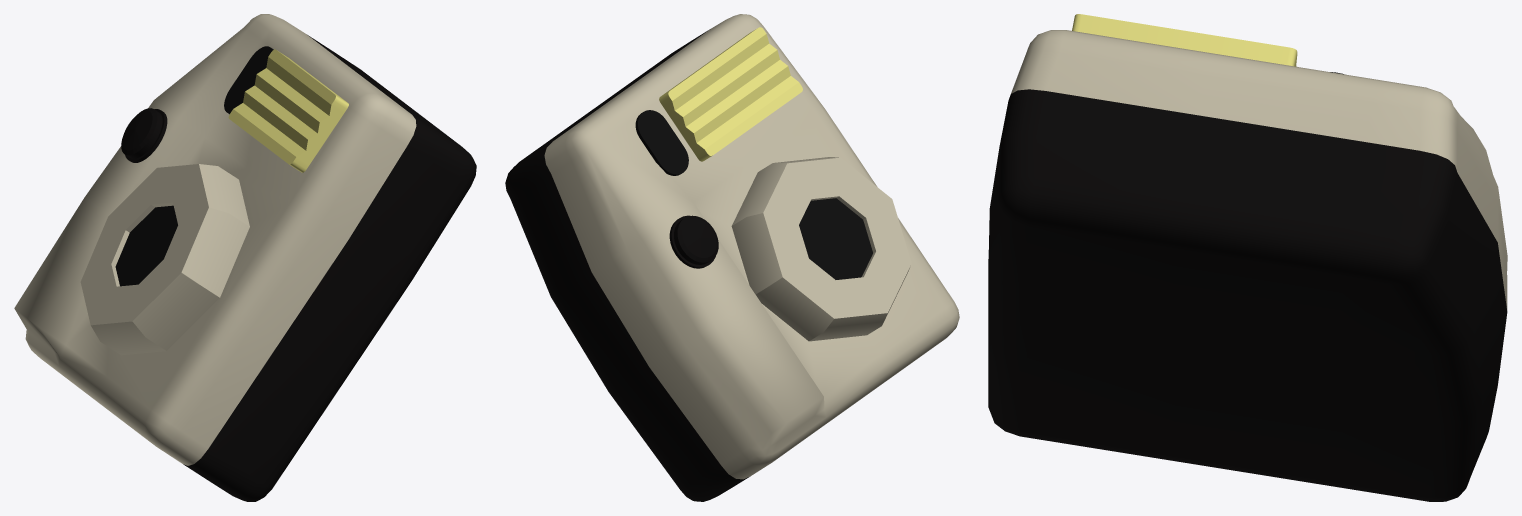
Rendered from Cafe_PolaroidCamera.fbx.
3 views of the same model, side by side, from view 1: azimuth 30°, elevation 25°; view 2: azimuth 150°, elevation 25°; view 3: azimuth 270°, elevation 25° (orthographic). The views are drawn at different scales.
Parts seen in each view (by area): view 1: Polaroid; view 2: Polaroid; view 3: Polaroid.
Part boxes in pixels (<box>): Polaroid: <box>14,14,476,501</box>; Polaroid: <box>505,14,959,501</box>; Polaroid: <box>988,14,1507,501</box>.
Bounding box in the file's own units: 14.56 × 15.6 × 13.79.
